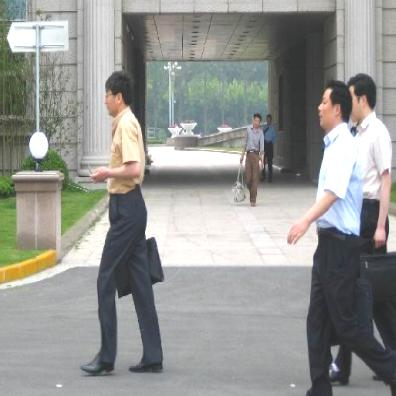ped: (287, 78, 396, 396), (83, 71, 165, 374), (240, 115, 264, 206)
